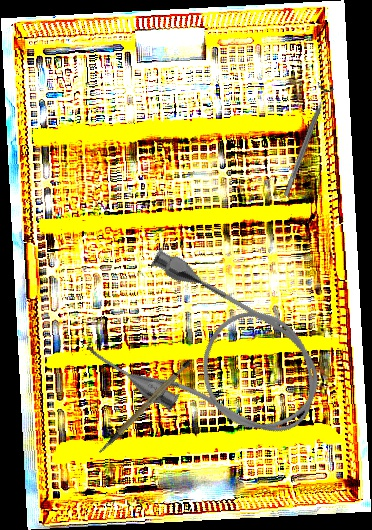Cannula: (79, 239, 344, 471)
Fixation Ring: (276, 81, 336, 200)
Scalpel Handle: (84, 358, 202, 455)
